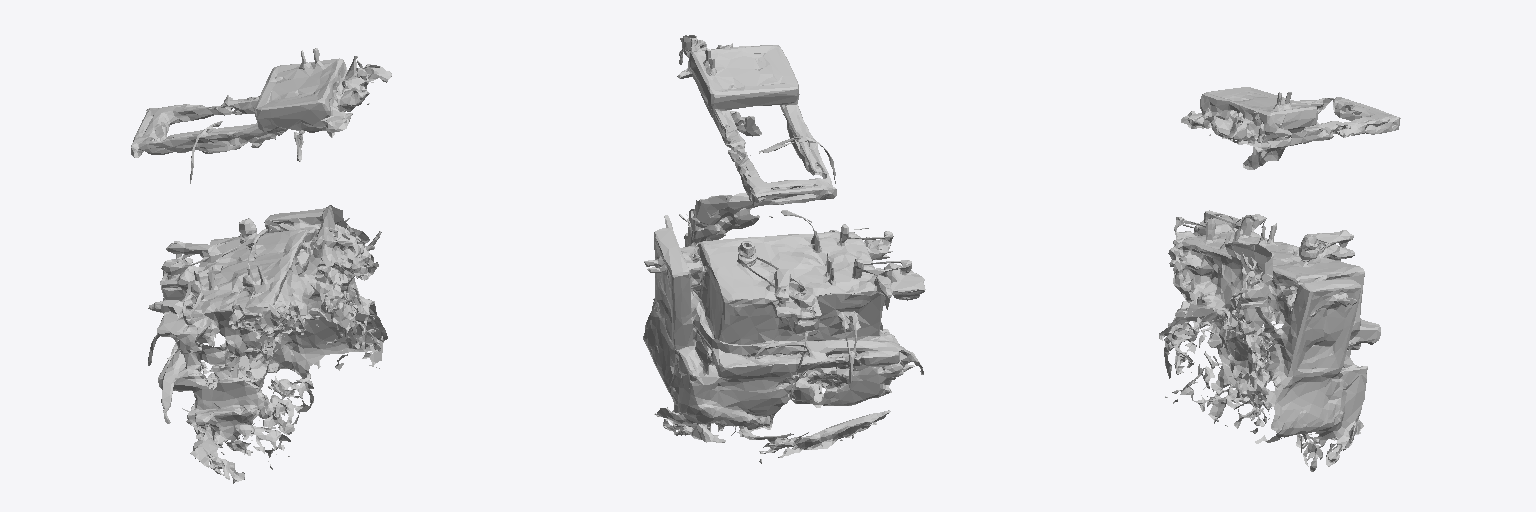
File: coolLab.obj
3 views of the same model, side by side, from view 1: azimuth 30°, elevation 25°; view 2: azimuth 150°, elevation 25°; view 3: azimuth 270°, elevation 25° (orthographic).
Bounding box in the file's own units: 1.98 × 2.87 × 1.62.